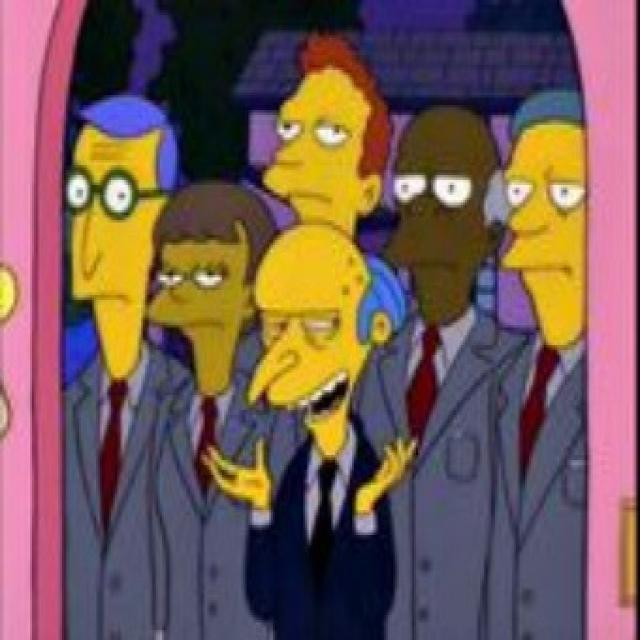Charles Montgomery Burns: (244, 224, 411, 451)
